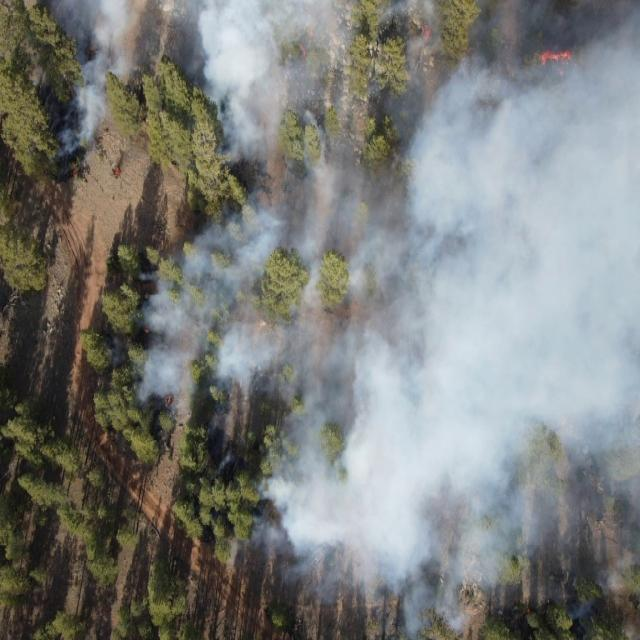fire: (529, 44, 580, 78), (416, 23, 438, 45), (65, 164, 86, 181), (296, 44, 309, 64), (109, 168, 123, 176), (144, 324, 152, 338), (165, 395, 175, 404)
smoke: (159, 1, 640, 640), (42, 0, 152, 156), (136, 265, 166, 405)
